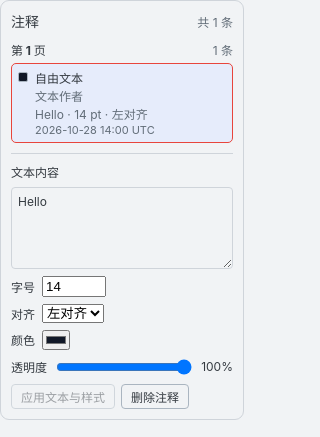
Test: AnnotationPanel › keeps free text within the supported font size range
This screenshot has width=320, height=437.
Replace the text in the number field named "自由文本字号" with "200": (74, 286) [42, 276, 106, 297]
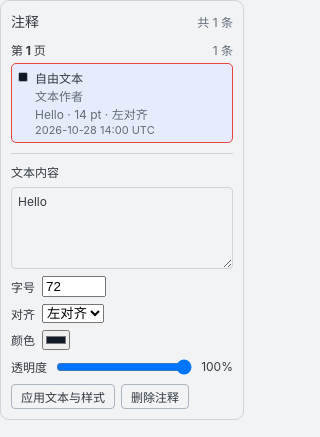
Result: the number field named "自由文本字号" holds "72"
Replace the text in the number field named "自由文本字号" with "1": (74, 286) [42, 276, 106, 297]
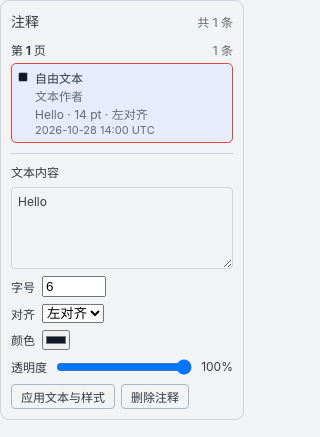
Result: the number field named "自由文本字号" holds "6" at [42, 276, 106, 297]
